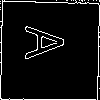A: (24, 25, 75, 61)
